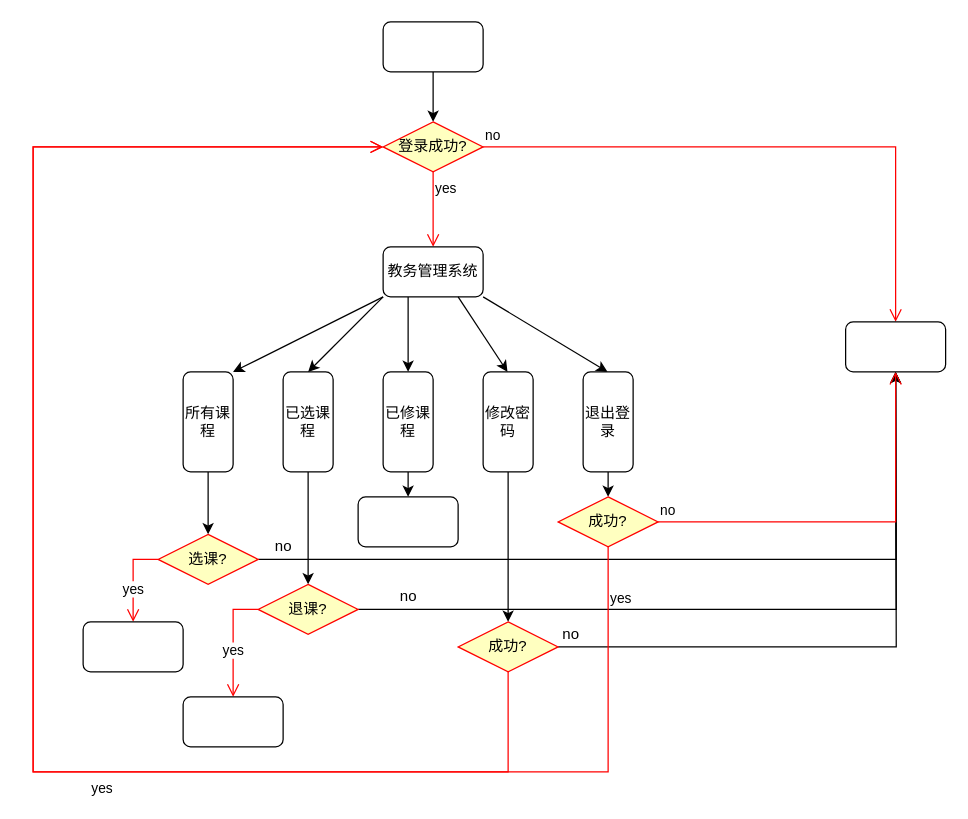
The diagram is 968 pixels wide and 819 high, and some of its shapes have lost their labels. Here are the shapes that lost their labels. From the top down, the box of each, then its label:
(382, 21, 483, 72): 学生
(844, 321, 946, 372): 错误信息
(357, 496, 458, 547): 分数
(82, 621, 183, 672): 选课成功
(182, 696, 283, 747): 已选信息
